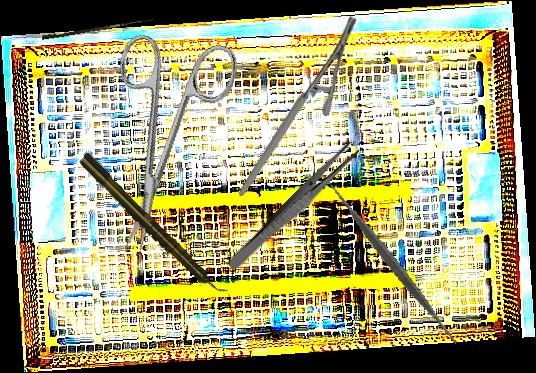Dressing Forceps: (225, 139, 362, 276)
Handpiece: (75, 149, 229, 303)
Hook Surgical: (41, 14, 154, 42)
Iris Scissors: (73, 21, 243, 264)
Needle Holder: (194, 13, 400, 198)
Spatula Surgical: (298, 170, 487, 354)
